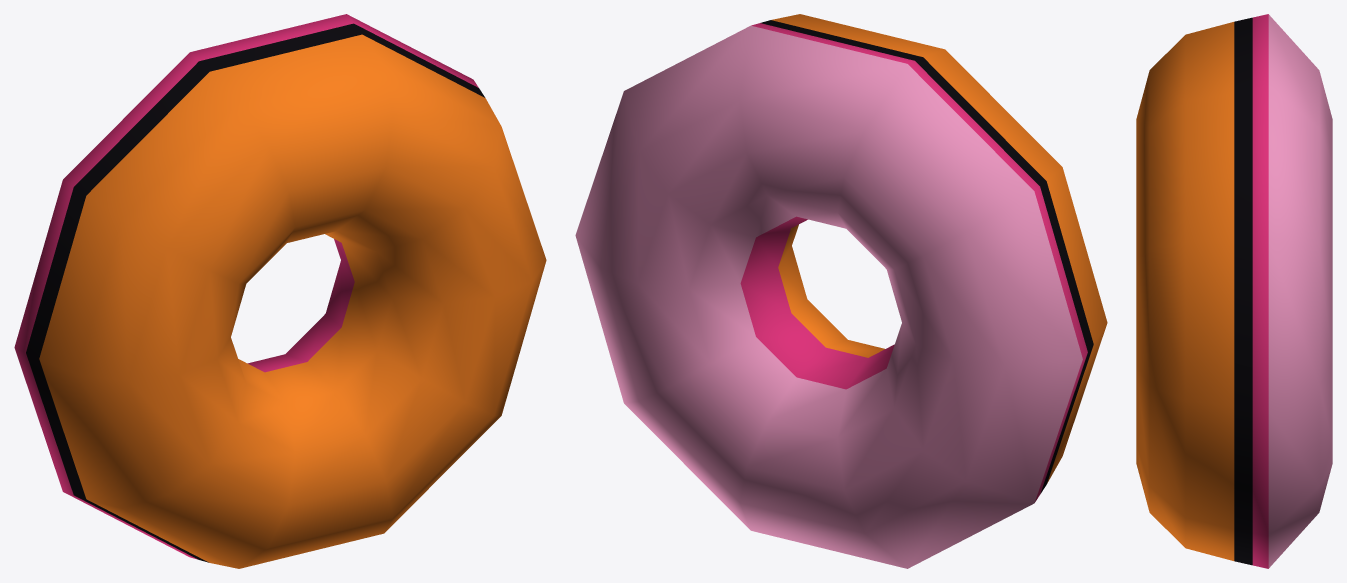
File: Doughnut.glb
3 views of the same model, side by side, from view 1: azimuth 30°, elevation 25°; view 2: azimuth 150°, elevation 25°; view 3: azimuth 270°, elevation 25° (orthographic). The views are drawn at different scales.
Parts seen in each view (by area): view 1: donut; view 2: donut; view 3: donut.
Part boxes in pixels (x1,y1,x2,y2): donut: [14, 14, 546, 568]; donut: [575, 14, 1107, 568]; donut: [1136, 14, 1332, 568].
Bounding box in the file's own units: 11.16 × 10.61 × 3.91.
Materials: 1 (1 with a texture image).
